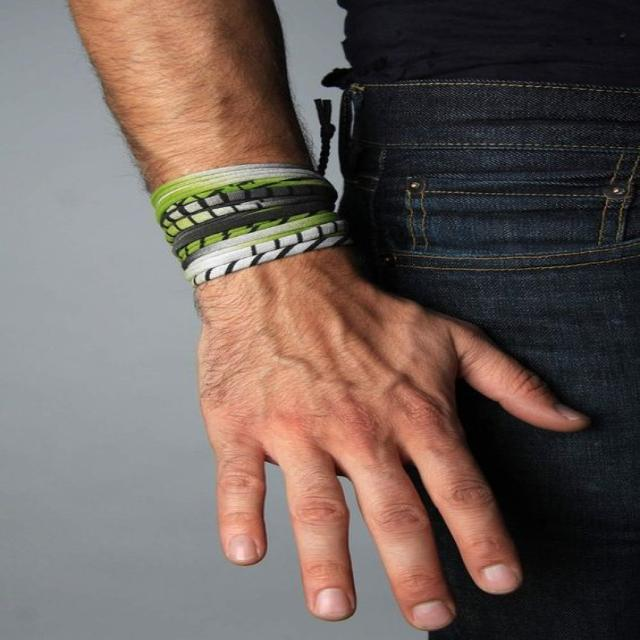Fingernail: (413, 600, 453, 630), (314, 588, 351, 619), (480, 563, 517, 592), (229, 535, 257, 561), (556, 404, 586, 420)
